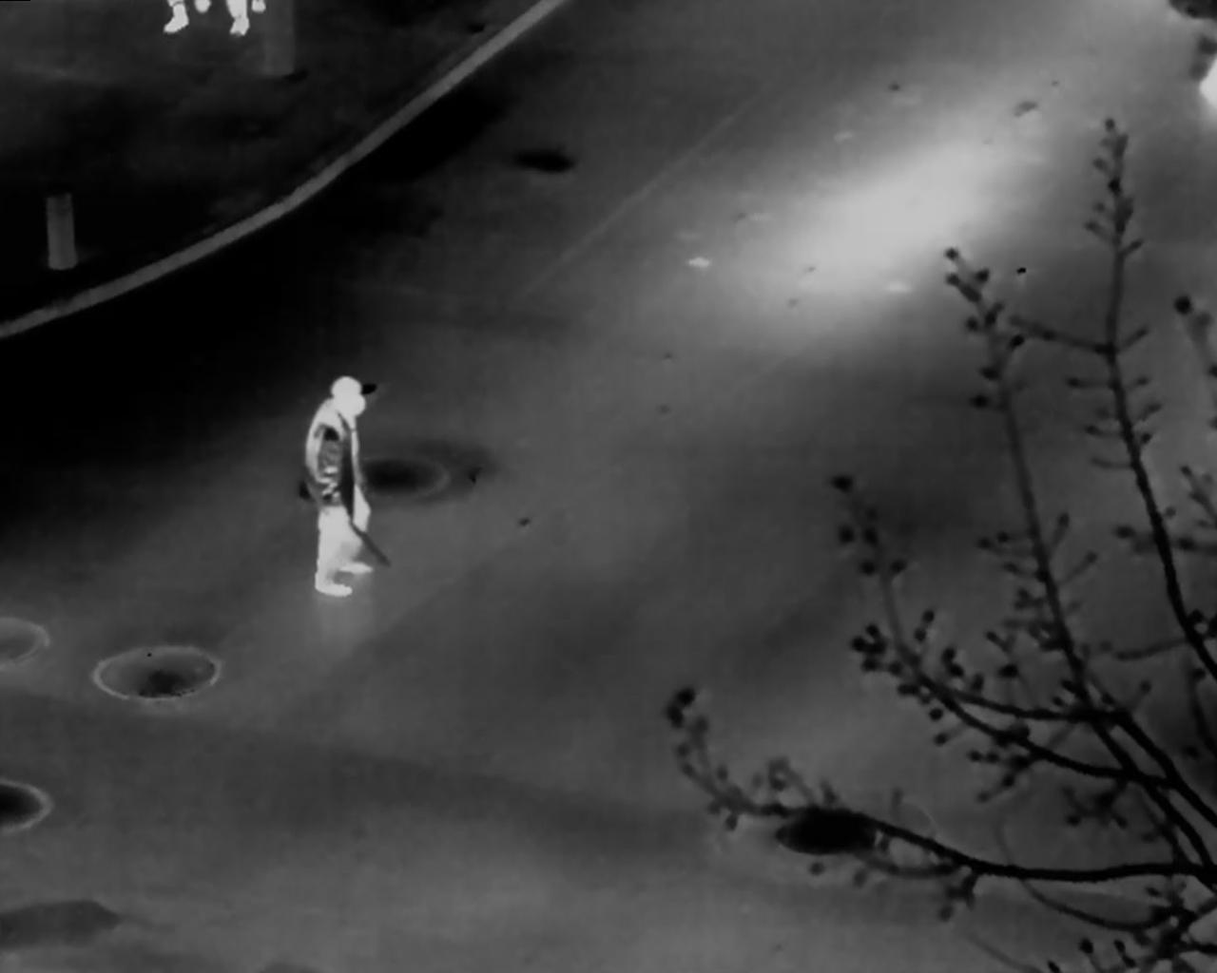person: (302, 374, 377, 600)
